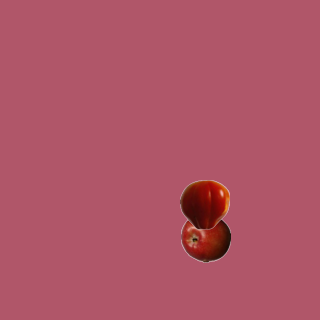Apple Braeburn: (180, 212, 230, 262)
Tomato 1: (179, 179, 229, 229)
